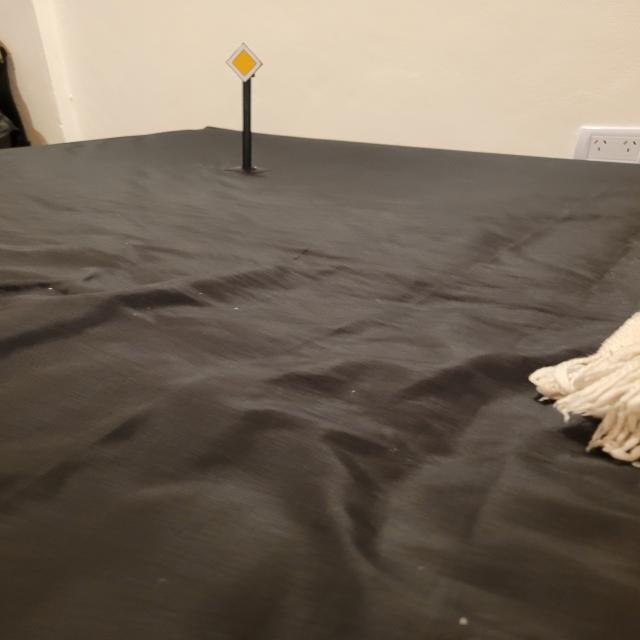priority: (225, 42, 262, 83)
